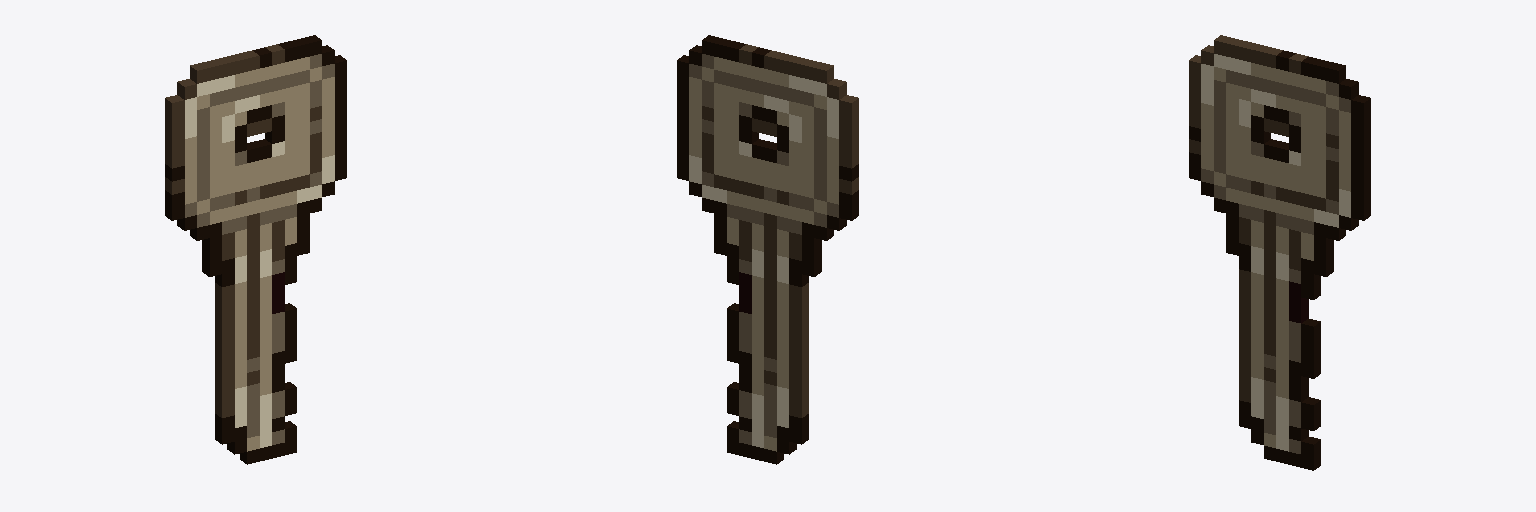
The picture shows the model from 3 angles: view 1: azimuth 30°, elevation 25°; view 2: azimuth 150°, elevation 25°; view 3: azimuth 330°, elevation 25°; orthographic projection.
Parts seen in each view (by area): view 1: texKey_2, texKey_6, texKey_3, texKey_14, texKey_15, texKey_7, texKey_1, texKey_8, texKey_0, texKey_12, texKey_9, texKey_10 (+5 smaller); view 2: texKey_2, texKey_6, texKey_3, texKey_14, texKey_15, texKey_7, texKey_1, texKey_8, texKey_0, texKey_12, texKey_9, texKey_10 (+5 smaller); view 3: texKey_6, texKey_3, texKey_2, texKey_15, texKey_14, texKey_7, texKey_8, texKey_1, texKey_9, texKey_13, texKey_0, texKey_11 (+7 smaller).
Part boxes in pixels (left/top/right/bottom): texKey_2: left=215, top=57, right=234, bottom=444; texKey_6: left=265, top=44, right=284, bottom=458; texKey_3: left=227, top=53, right=246, bottom=454; texKey_14: left=240, top=142, right=259, bottom=464; texKey_15: left=253, top=139, right=271, bottom=460; texKey_7: left=278, top=41, right=296, bottom=284; texKey_1: left=202, top=60, right=221, bottom=276; texKey_8: left=290, top=38, right=309, bottom=255; texKey_0: left=190, top=63, right=209, bottom=240; texKey_12: left=165, top=95, right=184, bottom=220; texKey_9: left=303, top=35, right=321, bottom=212; texKey_10: left=177, top=79, right=196, bottom=230; texKey_2: left=789, top=57, right=808, bottom=444; texKey_6: left=739, top=44, right=758, bottom=458; texKey_3: left=777, top=53, right=796, bottom=454; texKey_14: left=764, top=142, right=783, bottom=464; texKey_15: left=752, top=139, right=770, bottom=460; texKey_7: left=727, top=41, right=745, bottom=284; texKey_1: left=802, top=60, right=821, bottom=276; texKey_8: left=714, top=38, right=733, bottom=255; texKey_0: left=814, top=63, right=833, bottom=240; texKey_12: left=839, top=95, right=858, bottom=220; texKey_9: left=702, top=35, right=720, bottom=212; texKey_10: left=827, top=79, right=846, bottom=230; texKey_6: left=1289, top=53, right=1308, bottom=467; texKey_3: left=1251, top=44, right=1270, bottom=444; texKey_2: left=1239, top=41, right=1257, bottom=428; texKey_15: left=1276, top=142, right=1288, bottom=464; texKey_14: left=1264, top=139, right=1282, bottom=460; texKey_7: left=1301, top=57, right=1320, bottom=299; texKey_8: left=1314, top=60, right=1333, bottom=276; texKey_1: left=1226, top=38, right=1245, bottom=255; texKey_9: left=1326, top=63, right=1345, bottom=240; texKey_13: left=1351, top=95, right=1370, bottom=220; texKey_0: left=1214, top=35, right=1232, bottom=212; texKey_11: left=1339, top=79, right=1358, bottom=230.
Size of the model in its own units: 0.875 by 1.94 by 0.0625.
1 materials, 1 textured.